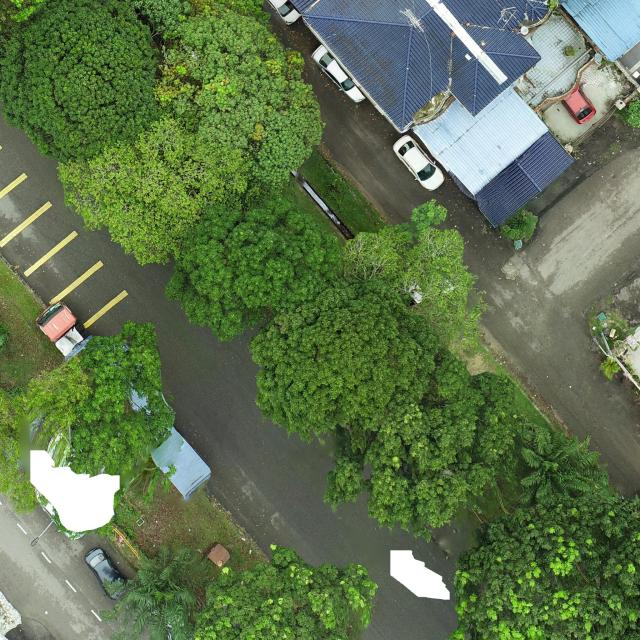Tree: (321, 347, 523, 542), (250, 275, 441, 452), (157, 0, 327, 185), (56, 113, 251, 265), (0, 0, 173, 165), (448, 492, 640, 640), (163, 192, 347, 342), (27, 317, 178, 478), (338, 198, 486, 359), (194, 543, 378, 640), (98, 535, 194, 640), (517, 419, 611, 506)
